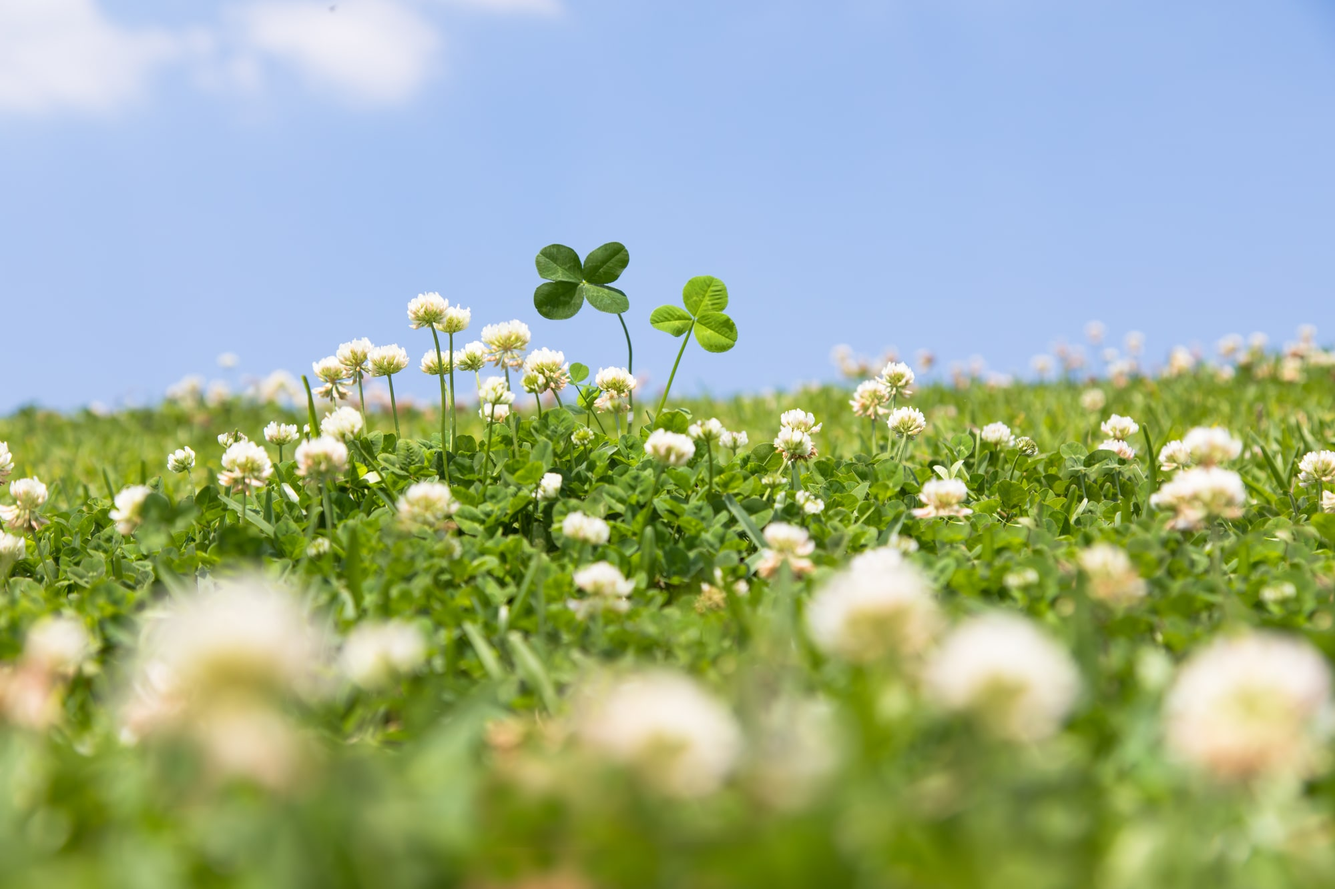daikon: (521, 224, 637, 341), (644, 266, 763, 366)
